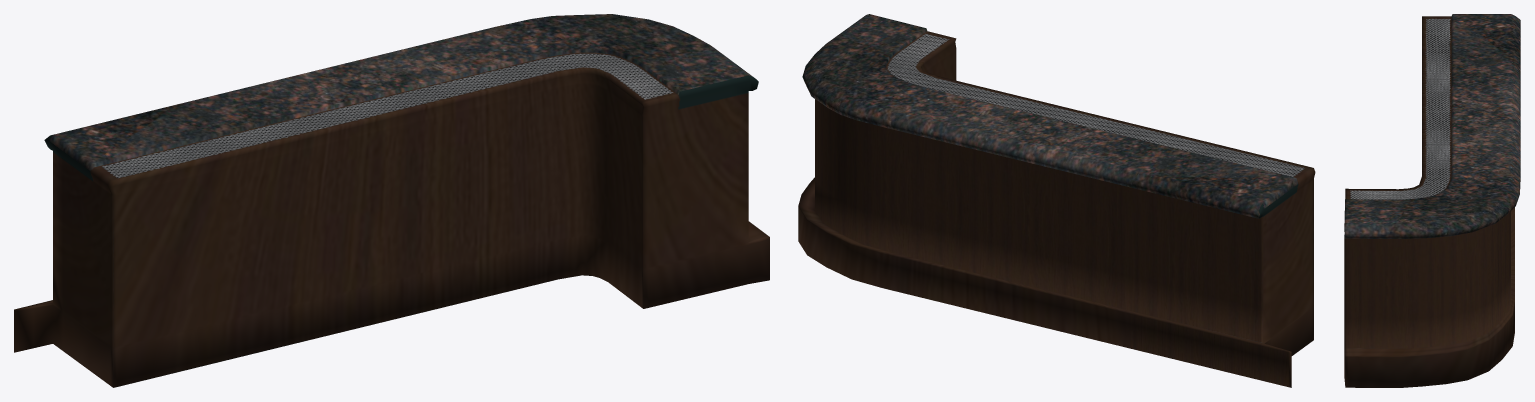
The model's file is SB_Bar_Counter.fbx.
The picture shows the model from 3 angles, left to right: view 1: azimuth 30°, elevation 25°; view 2: azimuth 150°, elevation 25°; view 3: azimuth 270°, elevation 25°; orthographic projection. The views are drawn at different scales.
Visible parts, largest first — view 1: SB_Bar; view 2: SB_Bar; view 3: SB_Bar.
Boxes of the visible parts, x1,y1,x2,y2 form: SB_Bar: (14, 14, 769, 387); SB_Bar: (798, 14, 1315, 387); SB_Bar: (1344, 14, 1520, 387).
Size of the model in its own units: 1043 by 327 by 335.
